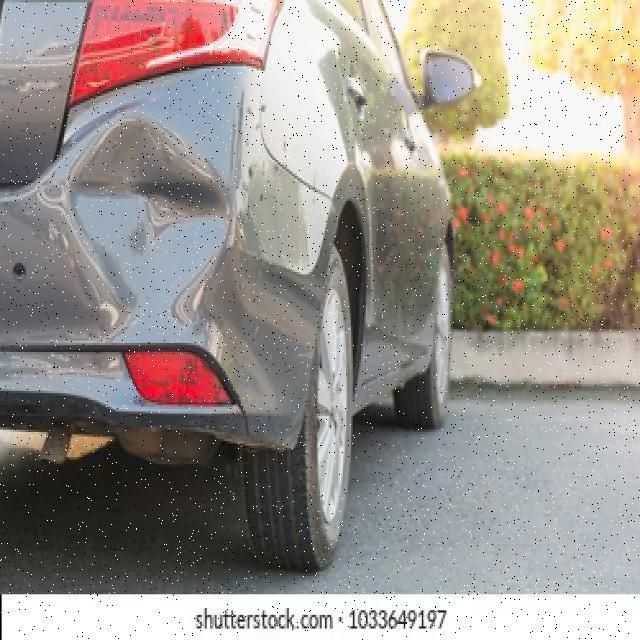rear-bumper-dent: (0, 66, 289, 430)
